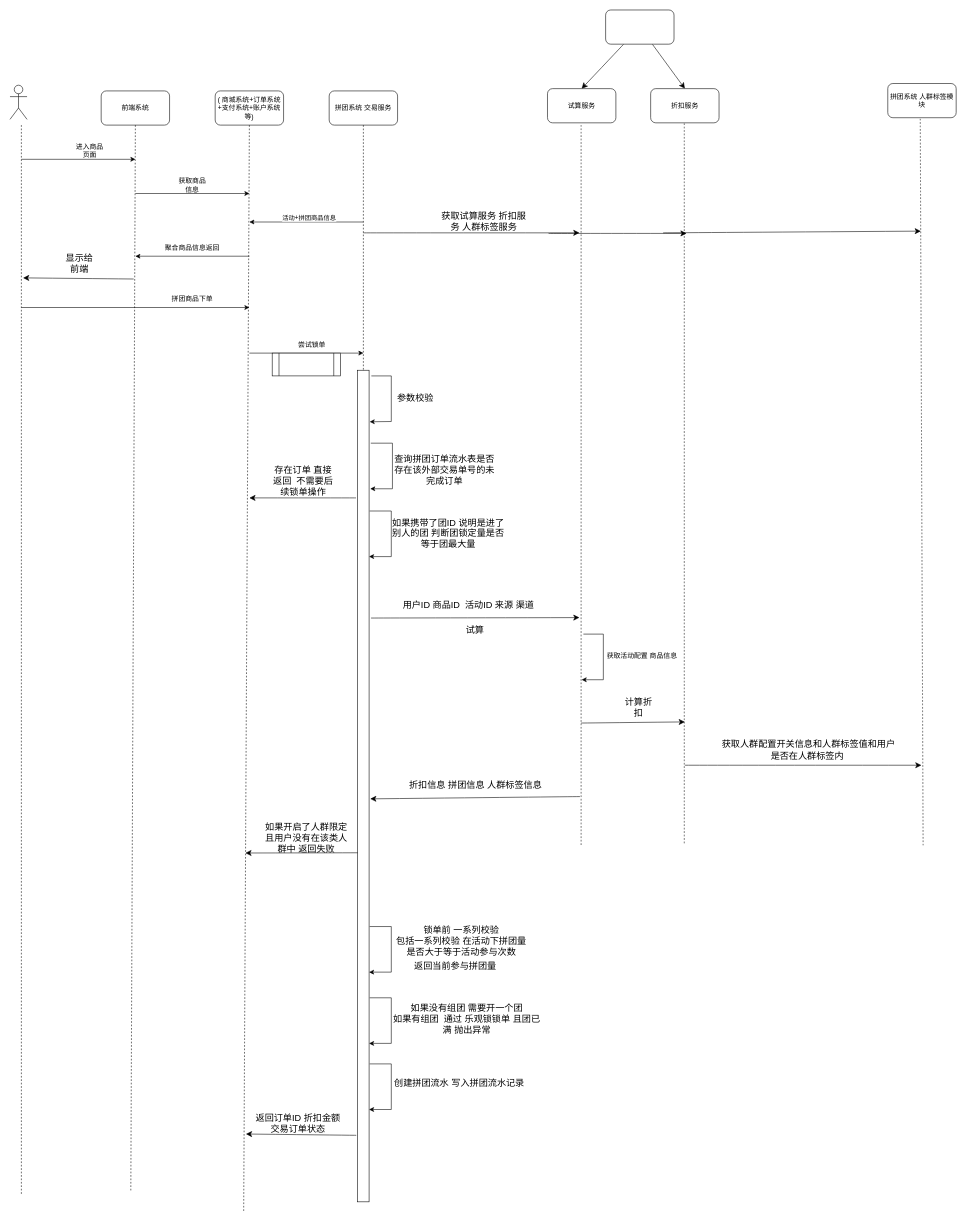
Some shapes in this 966 by 1223 pixel diagram are drawn without their labels. The shapes that lost their labels are listed below. From the top down, each one's centre as x and y in pixels, then its label:
point (639, 26): 拼团系统 活动服务
point (18, 102): Actor
point (306, 364): 商品，活动ID 外部交易单号...
